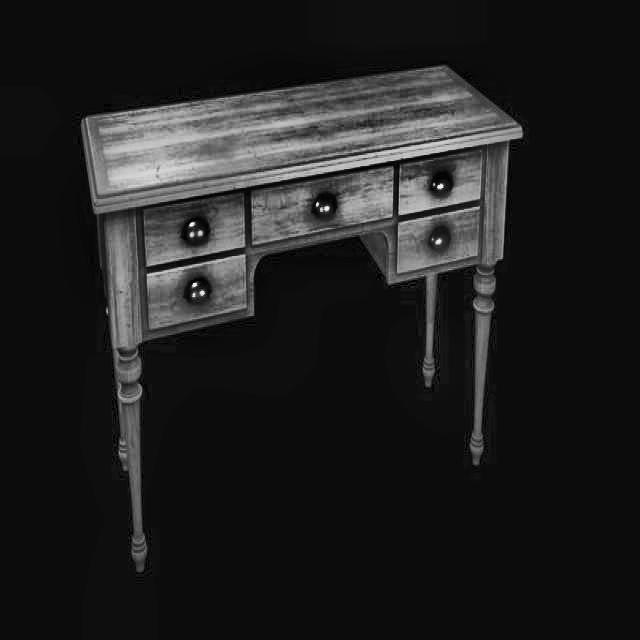mesa: (83, 60, 524, 576)
